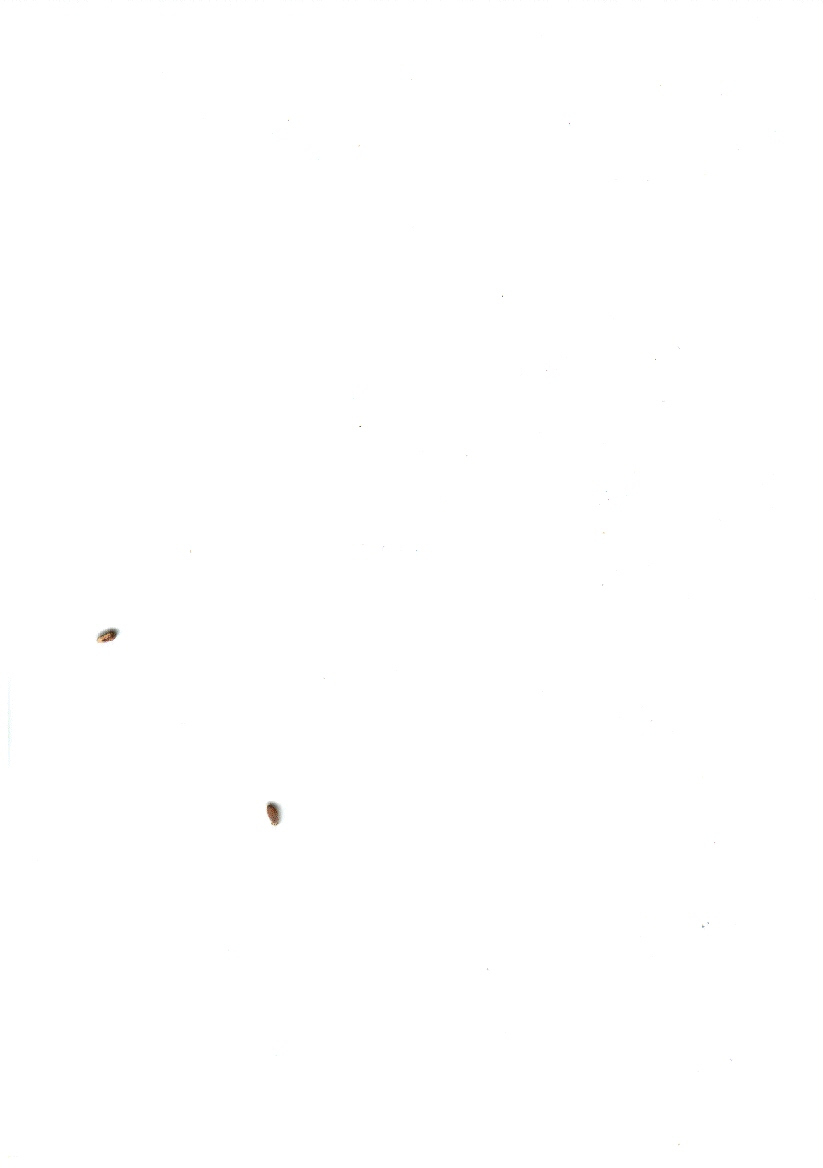grains: (254, 789, 293, 837), (89, 620, 124, 655)
